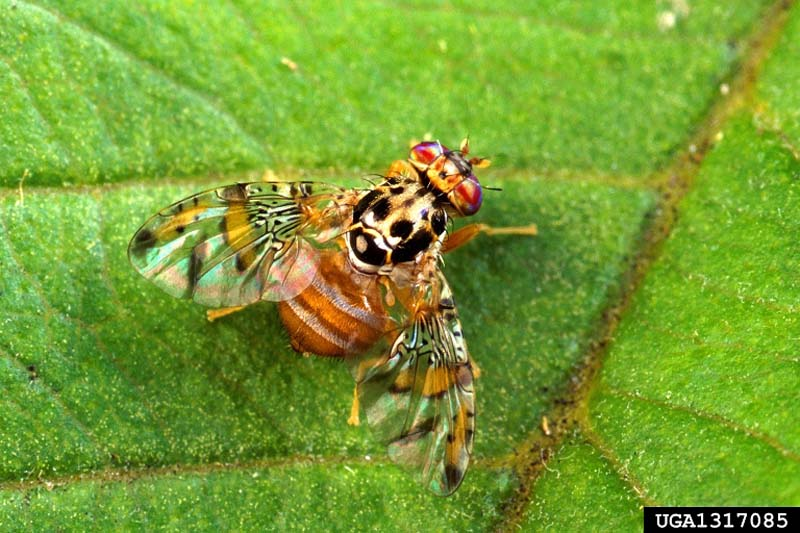Fruit fly: (141, 89, 534, 492)
